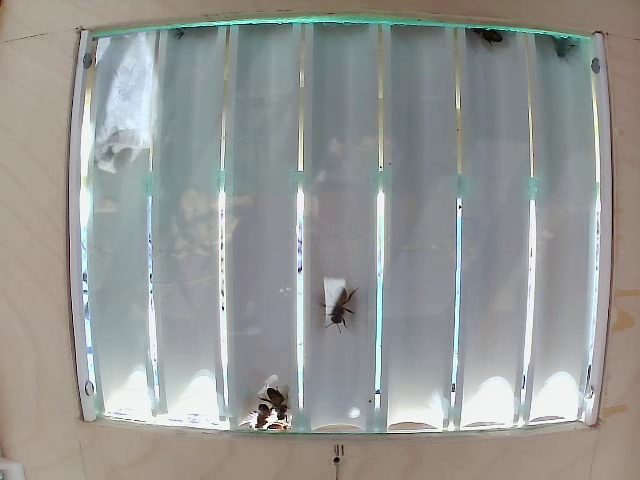bee: (479, 22, 523, 78), (321, 276, 364, 323), (255, 377, 291, 417)
